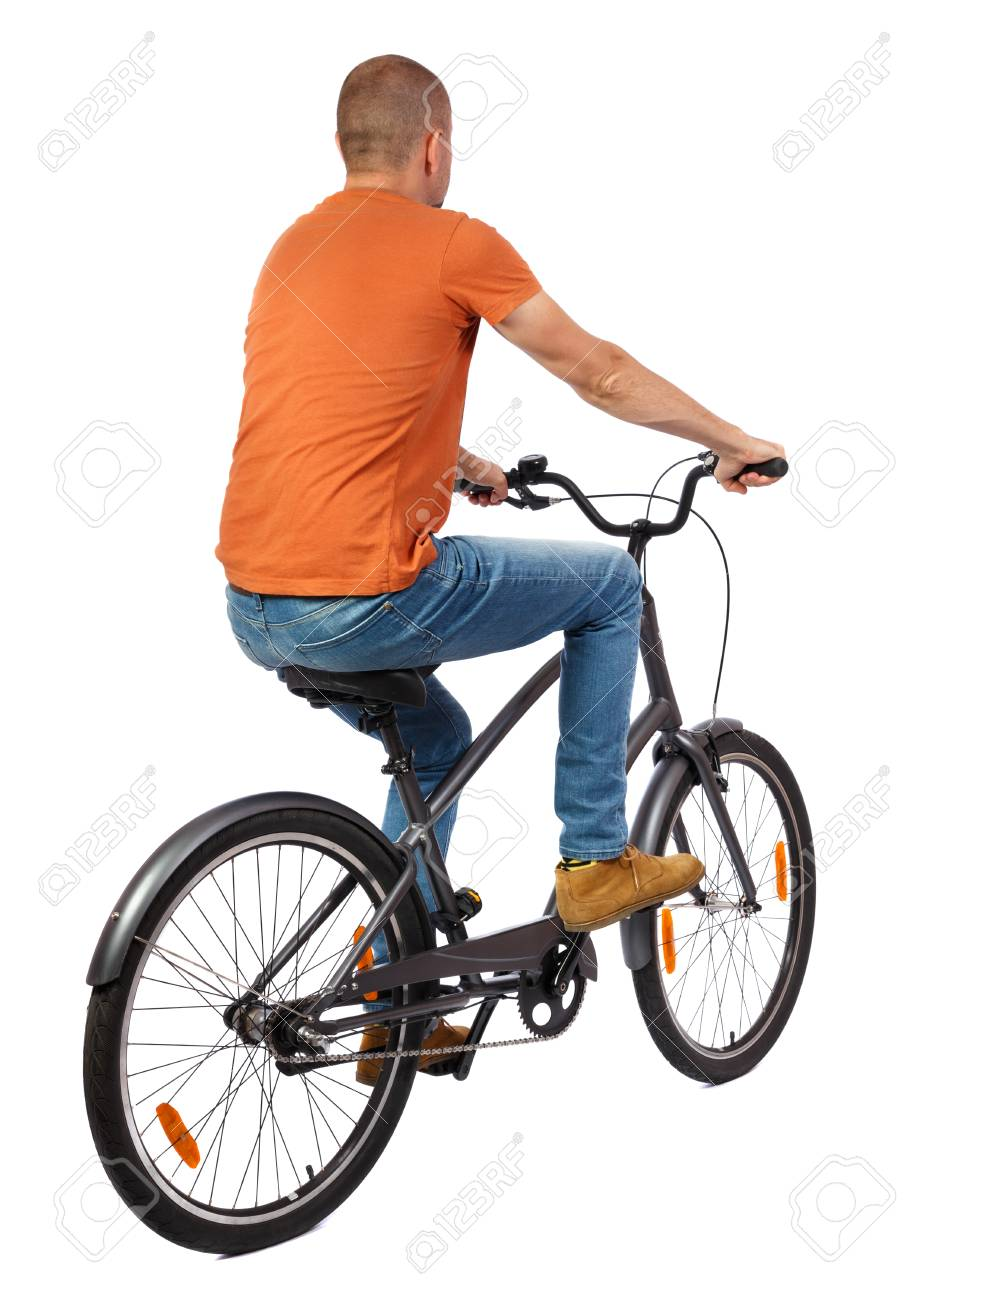bike: (79, 444, 826, 1263)
person: (212, 41, 782, 1097)
